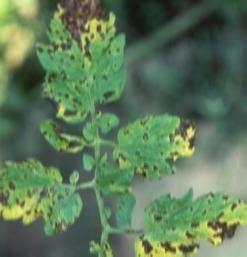Tomato Septoria leaf spot: (36, 0, 137, 121), (129, 191, 247, 257), (0, 155, 89, 241), (104, 115, 211, 178), (36, 119, 87, 160)
